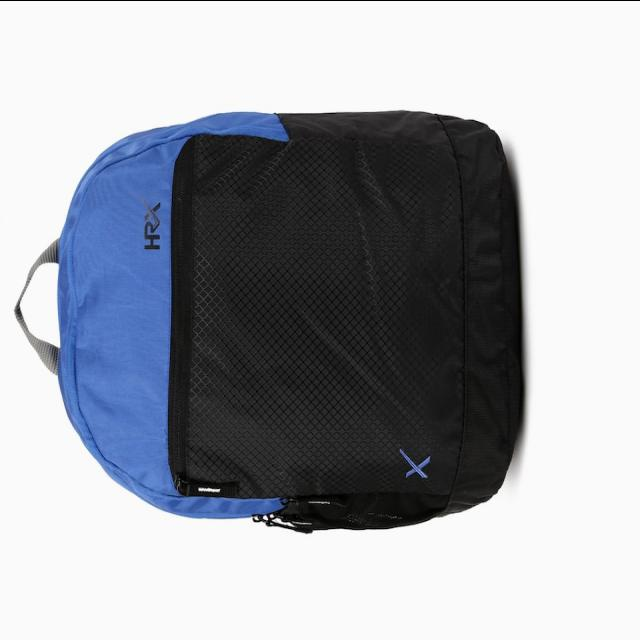backpack: (15, 110, 523, 534)
